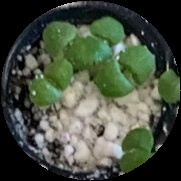Basil: (96, 45, 152, 99), (79, 18, 124, 67), (46, 18, 88, 67), (34, 57, 73, 108), (121, 125, 158, 177)
